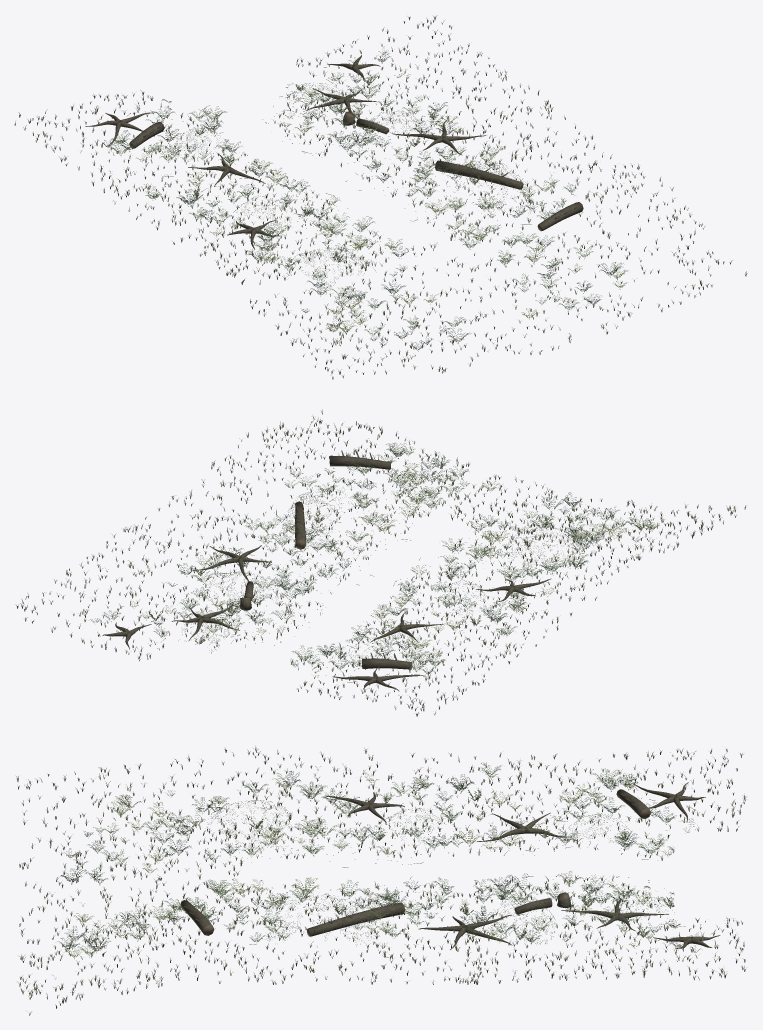
Rendered from FOREST_Undergrowth.fbx.
3 views of the same model, one above another, from view 1: azimuth 30°, elevation 25°; view 2: azimuth 150°, elevation 25°; view 3: azimuth 270°, elevation 25° (orthographic). The views are drawn at different scales.
Visible parts, largest first — view 1: FOREST_Undergrowth; view 2: FOREST_Undergrowth; view 3: FOREST_Undergrowth.
Boxes of the visible parts, x1=… form: FOREST_Undergrowth: x1=14, y1=15, x2=747, y2=379; FOREST_Undergrowth: x1=15, y1=409, x2=745, y2=716; FOREST_Undergrowth: x1=16, y1=746, x2=745, y2=1015.
Bounding box in the file's own units: 22.32 × 3.44 × 29.27.
